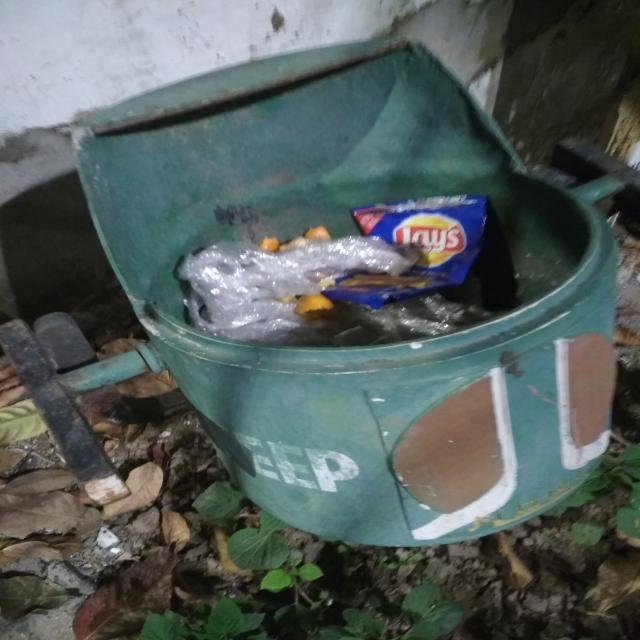garbage: (0, 308, 239, 640), (181, 194, 571, 348)
